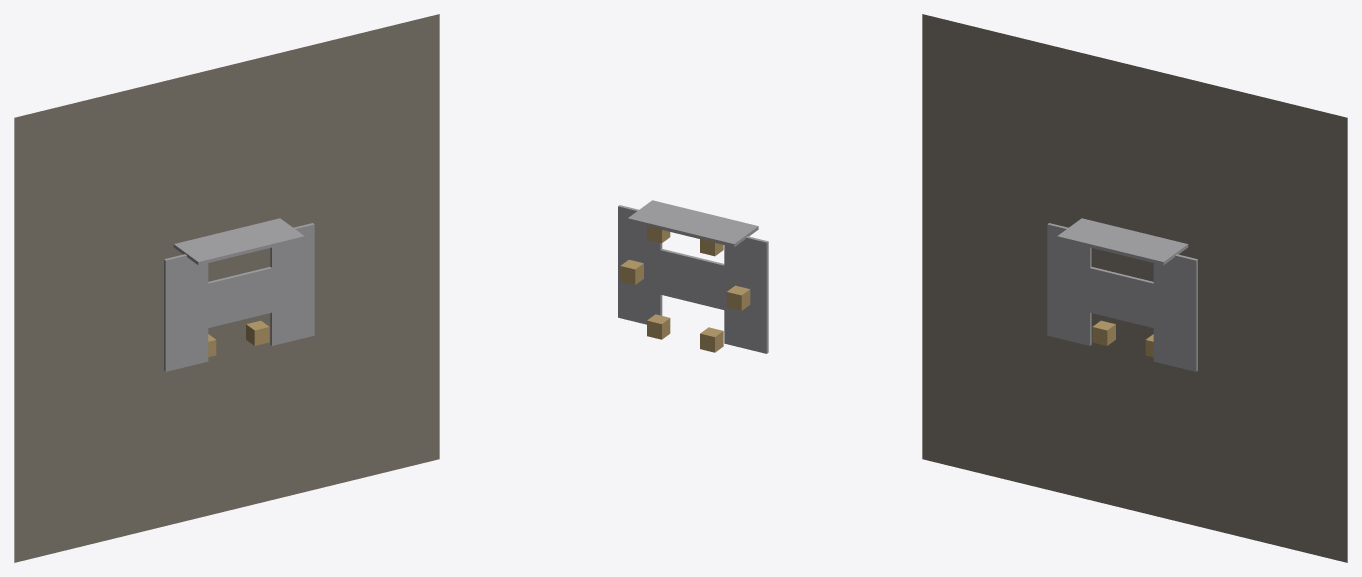
Rendered from barn.gltf.
3 views of the same model, side by side, from view 1: azimuth 30°, elevation 25°; view 2: azimuth 150°, elevation 25°; view 3: azimuth 330°, elevation 25° (orthographic).
Visible parts, largest first — view 1: Floor, 立方体, 立方体.003, 立方体.001, 立方体.002; view 2: 立方体, 立方体.003, 立方体.002, 立方体.001, 立方体.007; view 3: Floor, 立方体, 立方体.001, 立方体.003, 立方体.002.
Boxes of the visible parts, x1=… form: Floor: x1=14, y1=14, x2=439, y2=562; 立方体: x1=187, y1=263, x2=293, y2=333; 立方体.003: x1=164, y1=254, x2=208, y2=371; 立方体.001: x1=270, y1=223, x2=314, y2=345; 立方体.002: x1=173, y1=218, x2=304, y2=265; 立方体: x1=639, y1=245, x2=745, y2=315; 立方体.003: x1=724, y1=236, x2=768, y2=353; 立方体.002: x1=627, y1=200, x2=758, y2=247; 立方体.001: x1=618, y1=205, x2=662, y2=324; 立方体.007: x1=726, y1=285, x2=750, y2=310; Floor: x1=922, y1=14, x2=1347, y2=562; 立方体: x1=1068, y1=263, x2=1174, y2=333; 立方体.001: x1=1153, y1=254, x2=1197, y2=371; 立方体.003: x1=1047, y1=223, x2=1091, y2=345; 立方体.002: x1=1057, y1=218, x2=1188, y2=265.
Size of the model in its own units: 40 by 40 by 4.
